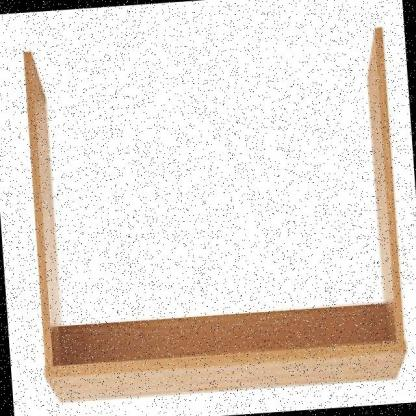Table: (1, 15, 416, 416)
